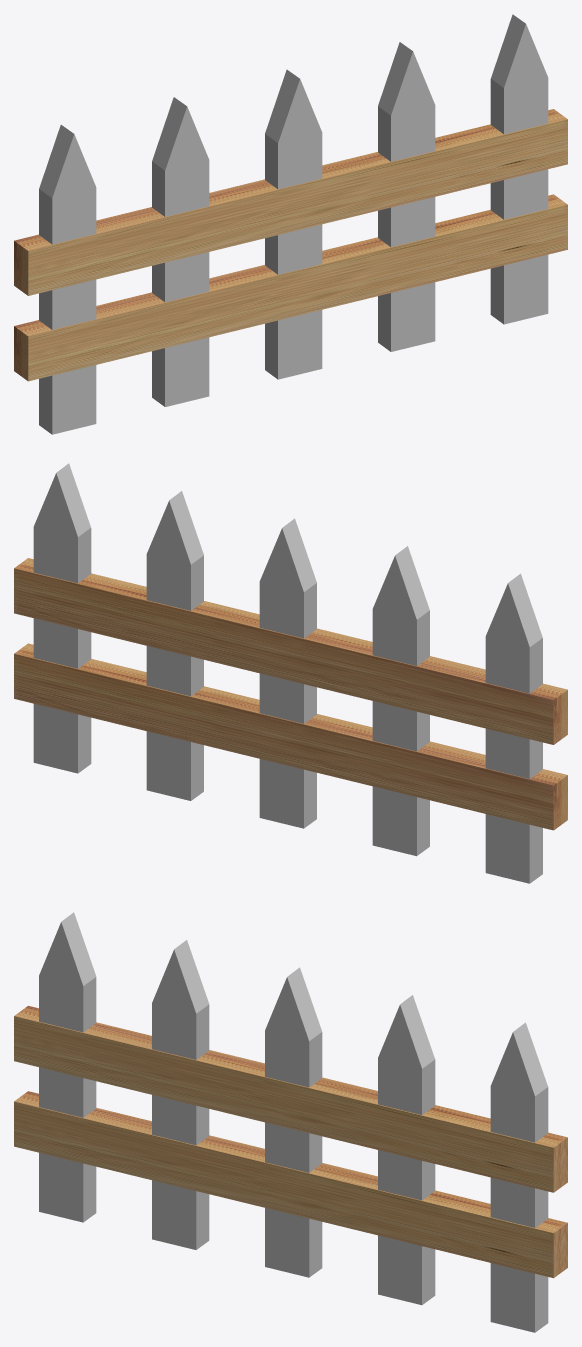
The model's file is fence.fbx.
The picture shows the model from 3 angles, top to bottom: view 1: azimuth 30°, elevation 25°; view 2: azimuth 150°, elevation 25°; view 3: azimuth 330°, elevation 25°; orthographic projection.
Visible parts, largest first — view 1: Cube1, pCube2, pCube1; view 2: Cube1, pCube2, pCube1; view 3: Cube1, pCube1, pCube2.
Boxes of the visible parts, left/top/right/bottom form: Cube1: left=39, top=14, right=548, bottom=434; pCube2: left=14, top=194, right=567, bottom=381; pCube1: left=14, top=109, right=567, bottom=295; Cube1: left=33, top=463, right=542, bottom=883; pCube2: left=14, top=643, right=567, bottom=830; pCube1: left=14, top=558, right=567, bottom=744; Cube1: left=39, top=912, right=548, bottom=1332; pCube1: left=14, top=1005, right=567, bottom=1192; pCube2: left=14, top=1091, right=567, bottom=1278.
Bounding box in the file's own units: 4.78 × 2.5 × 0.2182.
